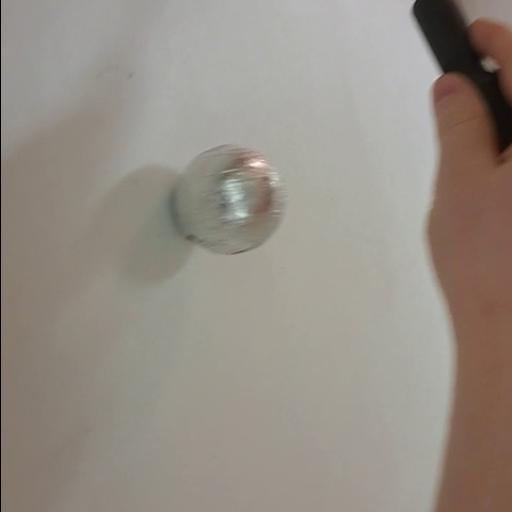alive: (169, 142, 288, 259)
